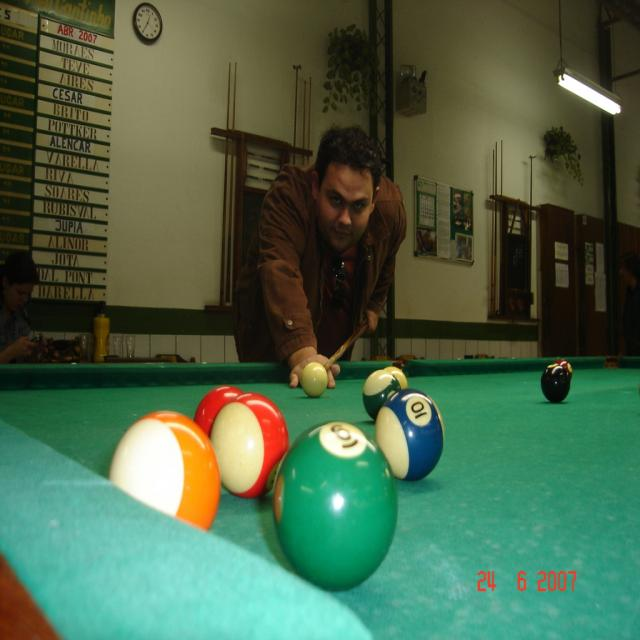Ball: (110, 359, 572, 590)
Billiard table: (0, 351, 640, 640)
